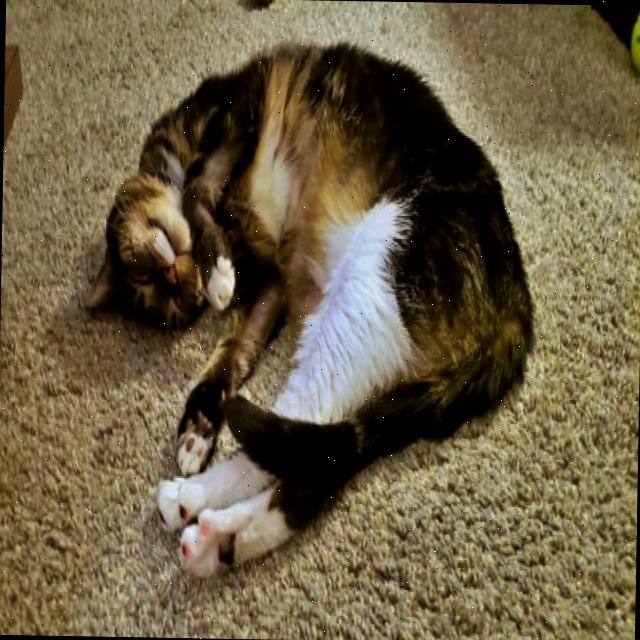american_shorthair_cat: (75, 163, 220, 342)
